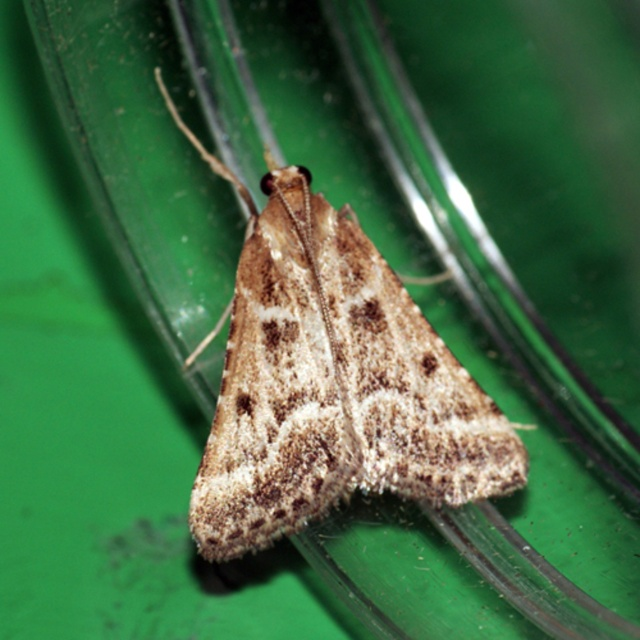Moths and butterflies: (152, 68, 540, 567)
